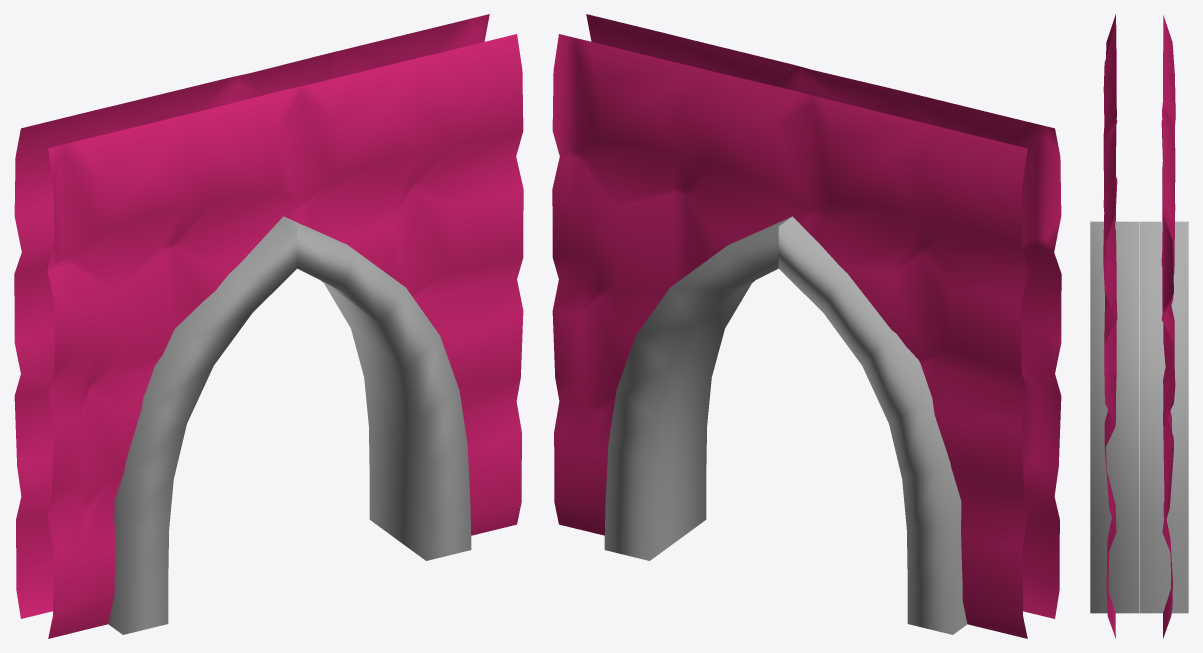
File: WindowFrame_Top_Mesh.fbx
3 renders of one model, left to right at view 1: azimuth 30°, elevation 25°; view 2: azimuth 150°, elevation 25°; view 3: azimuth 270°, elevation 25°, orthographic. The views are drawn at different scales.
Visible parts, largest first — view 1: WindowFrame_Top; view 2: WindowFrame_Top; view 3: WindowFrame_Top.
Boxes of the visible parts, x1,y1,x2,y2 form: WindowFrame_Top: [14, 14, 523, 638]; WindowFrame_Top: [552, 14, 1061, 638]; WindowFrame_Top: [1090, 14, 1188, 638].
Size of the model in its own units: 100 by 100 by 20.89.
